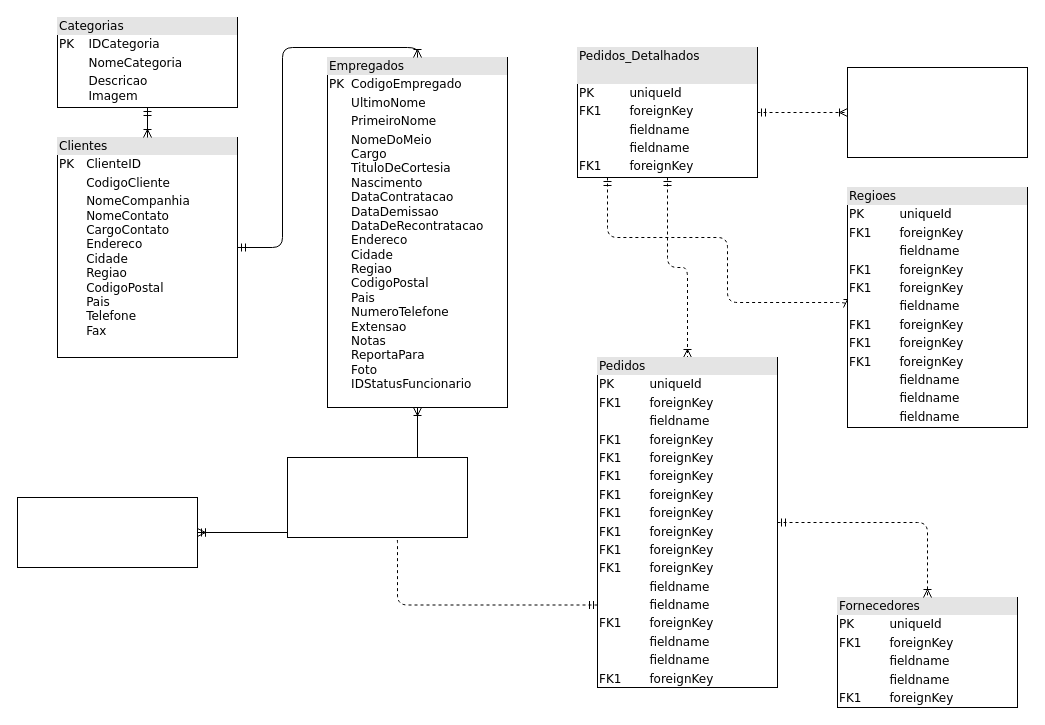
Some shapes in this 1045 by 725 pixel diagram are drawn without their labels. Here are the shapes that lost their labels. From the top down, the box of each, then its label:
(846, 66, 1028, 158): Produtos PK uniqueId FK1 foreignKey fieldname
(286, 456, 468, 538): Expedidores PK IDdoTransportador NomedaEmpresa Telefone
(16, 496, 198, 568): Status_Empregados PK IDStatus StatusNome
